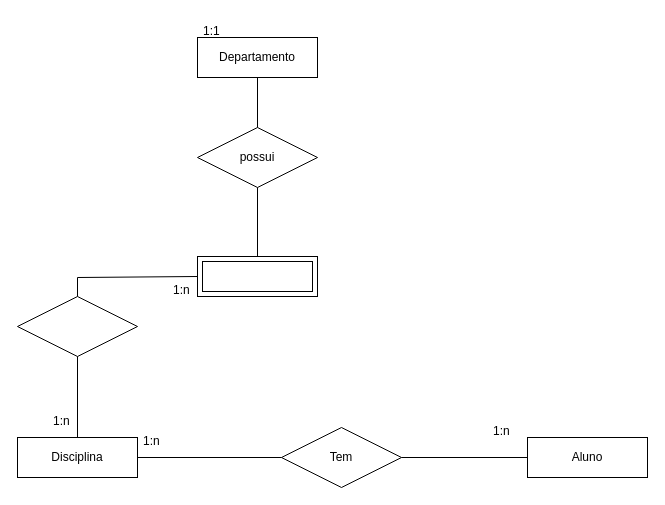
The diagram is 665 pixels wide and 505 high, and some of its shapes have lost their labels. Each missing label, with the centre of its shape:
"Contém" goes at [77,326].
"Cursos" goes at [257,276].
